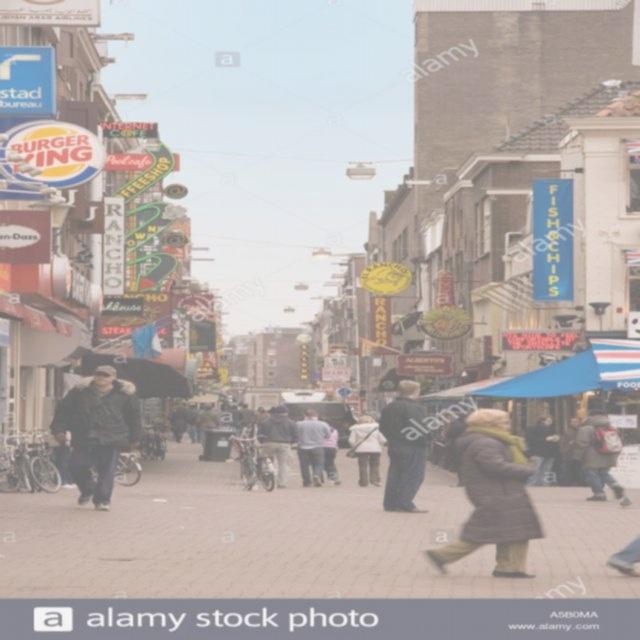pessoa: (418, 408, 554, 581), (47, 364, 146, 512), (376, 378, 435, 514), (566, 407, 630, 502), (252, 404, 301, 489), (293, 408, 335, 487), (344, 414, 388, 488), (41, 414, 78, 489), (525, 414, 561, 487), (556, 416, 590, 488), (440, 412, 472, 488), (600, 532, 640, 585), (316, 416, 344, 486), (195, 403, 221, 447), (166, 406, 192, 444), (186, 403, 202, 444), (224, 404, 244, 436), (237, 403, 256, 428), (253, 406, 269, 428), (266, 403, 287, 416), (196, 402, 208, 412)
